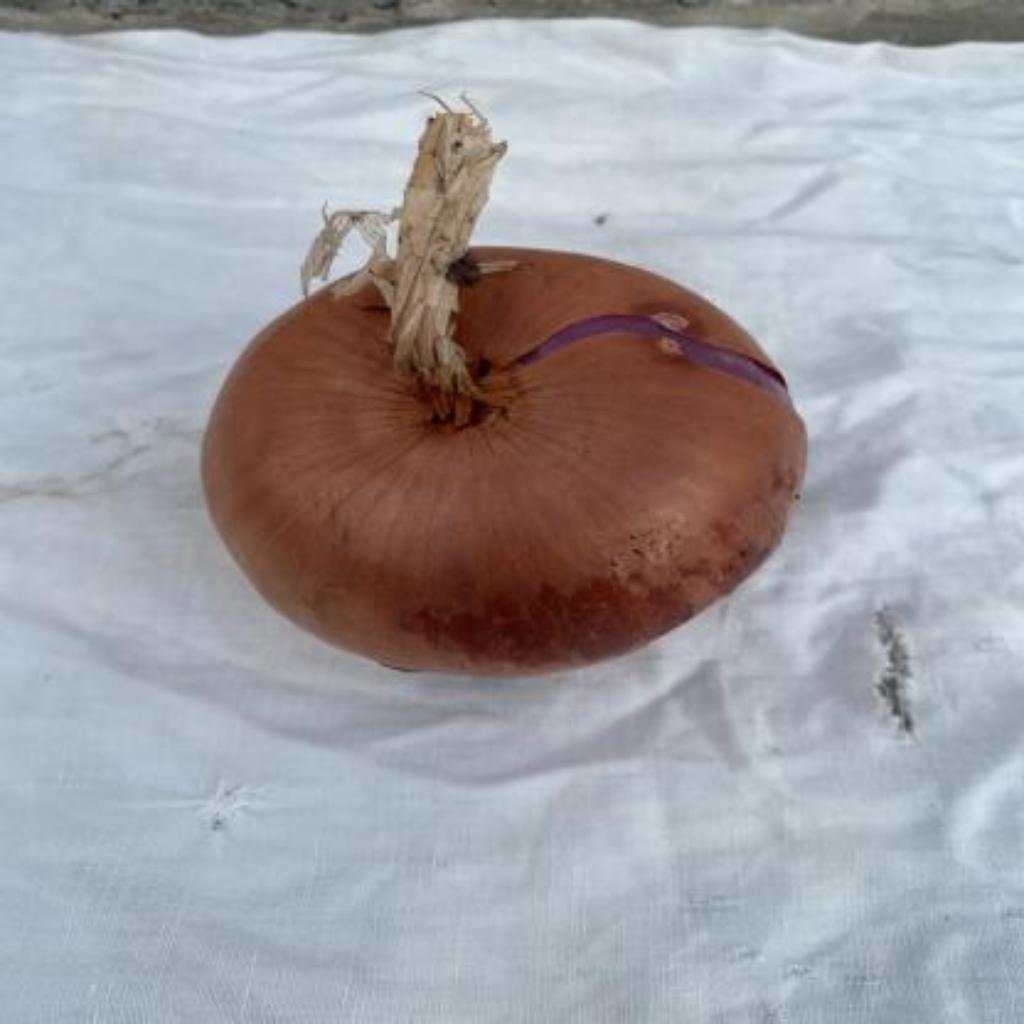Onion: (202, 98, 807, 676)
